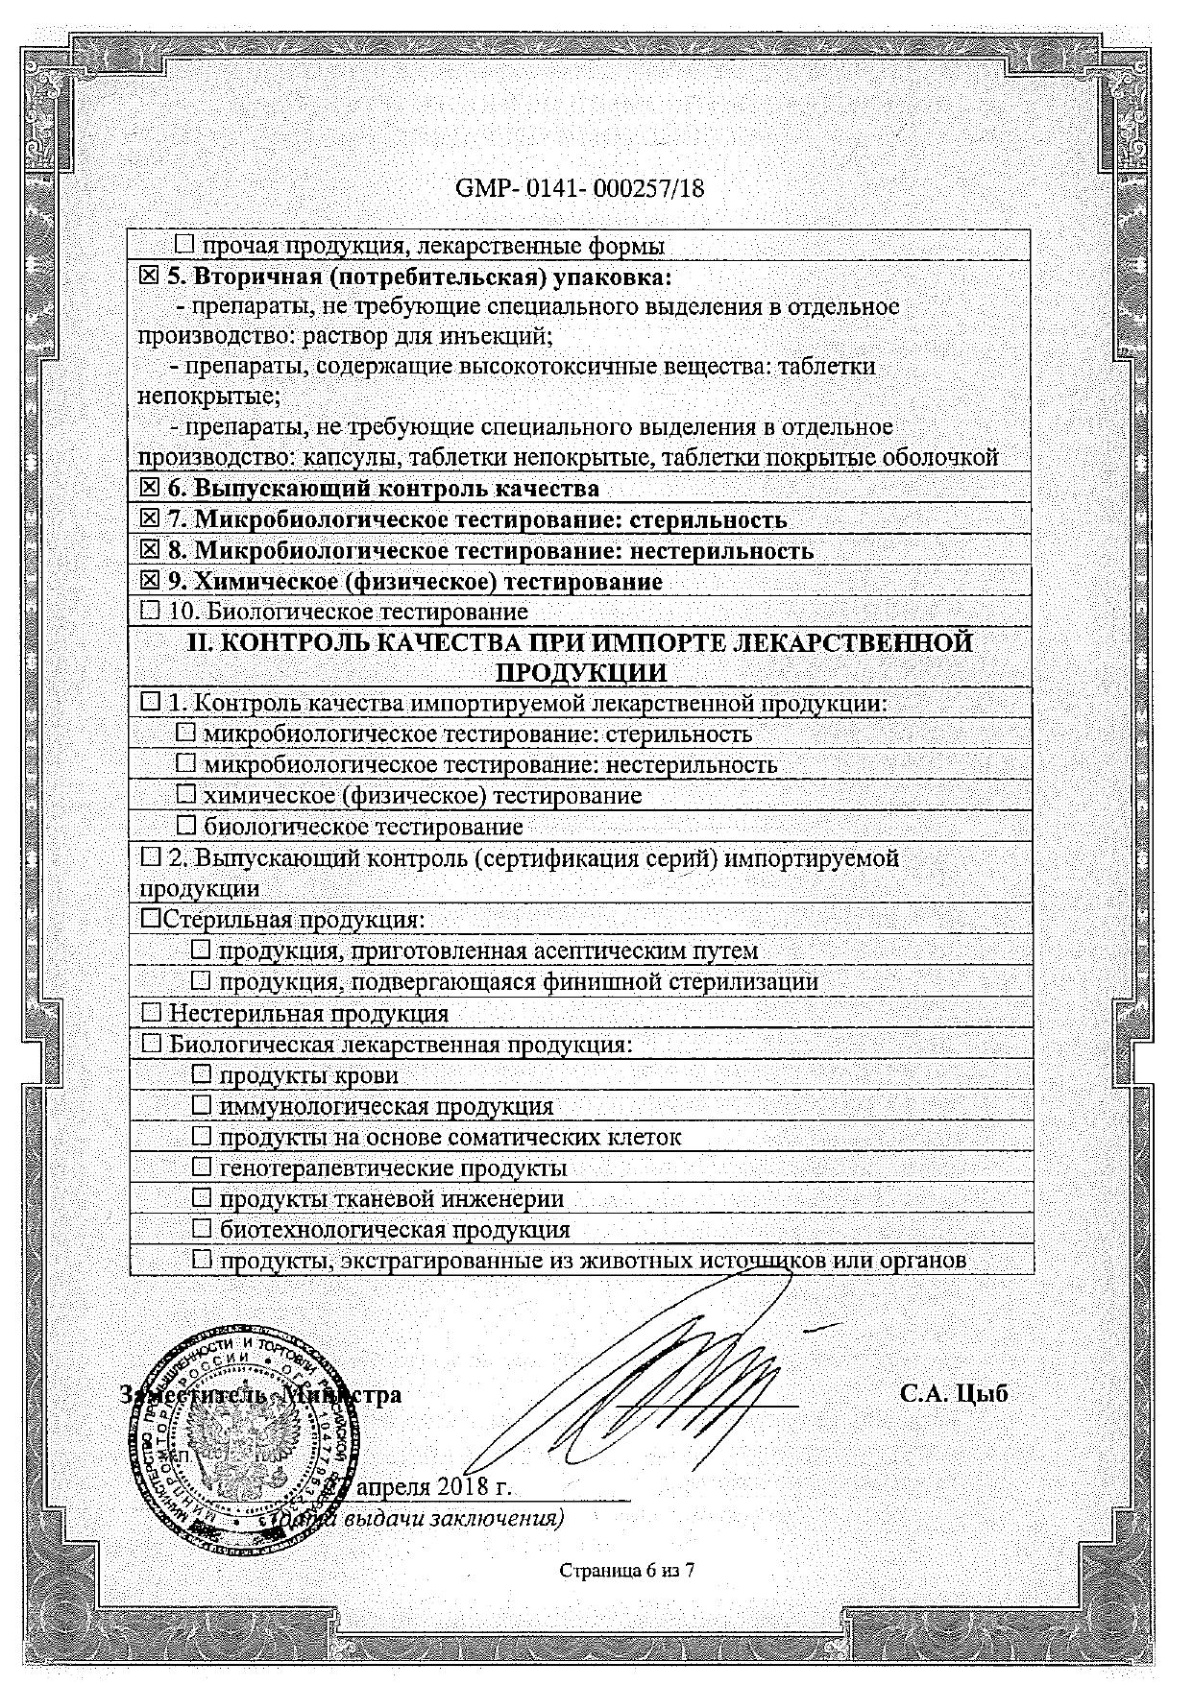merged_cells: (124, 227, 1035, 1277)
